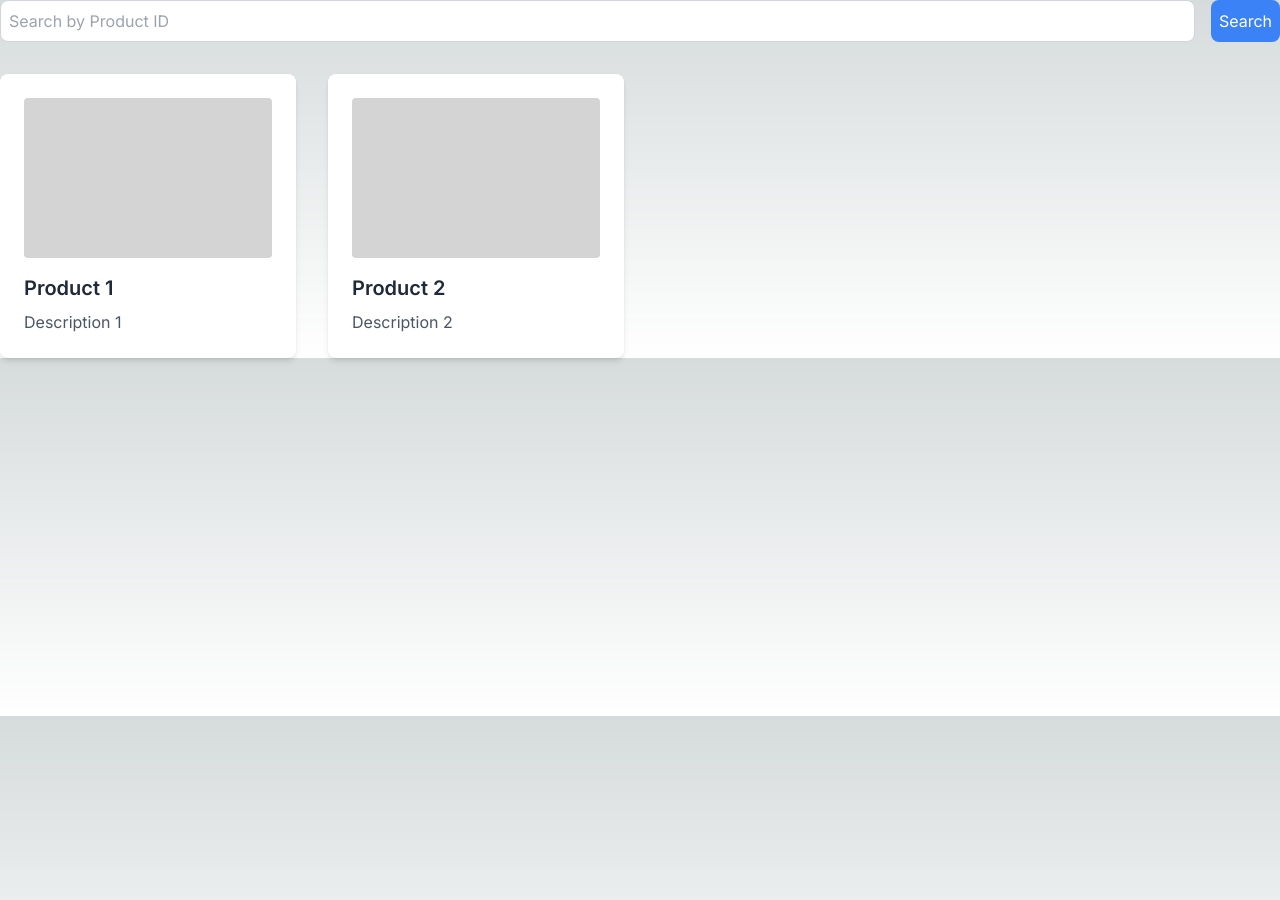
Test: SearchComponent › displays error message when request response is not ok
In the field with placeholder "Search by Product ID": {"x": 597, "y": 21} left=0, top=0, right=1195, bottom=42, type "2"
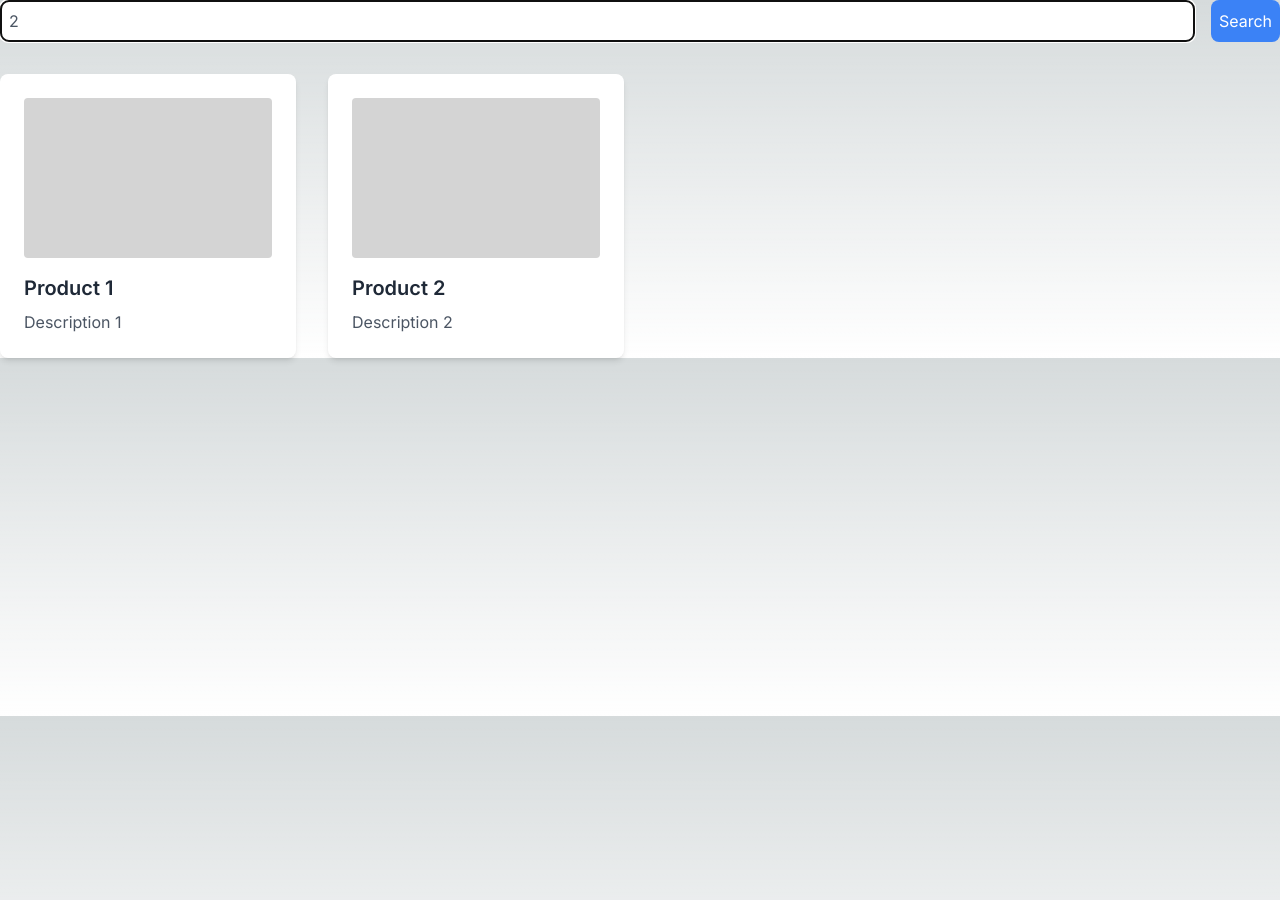
Click the button "Search": {"x": 1245, "y": 21} left=1211, top=0, right=1279, bottom=42
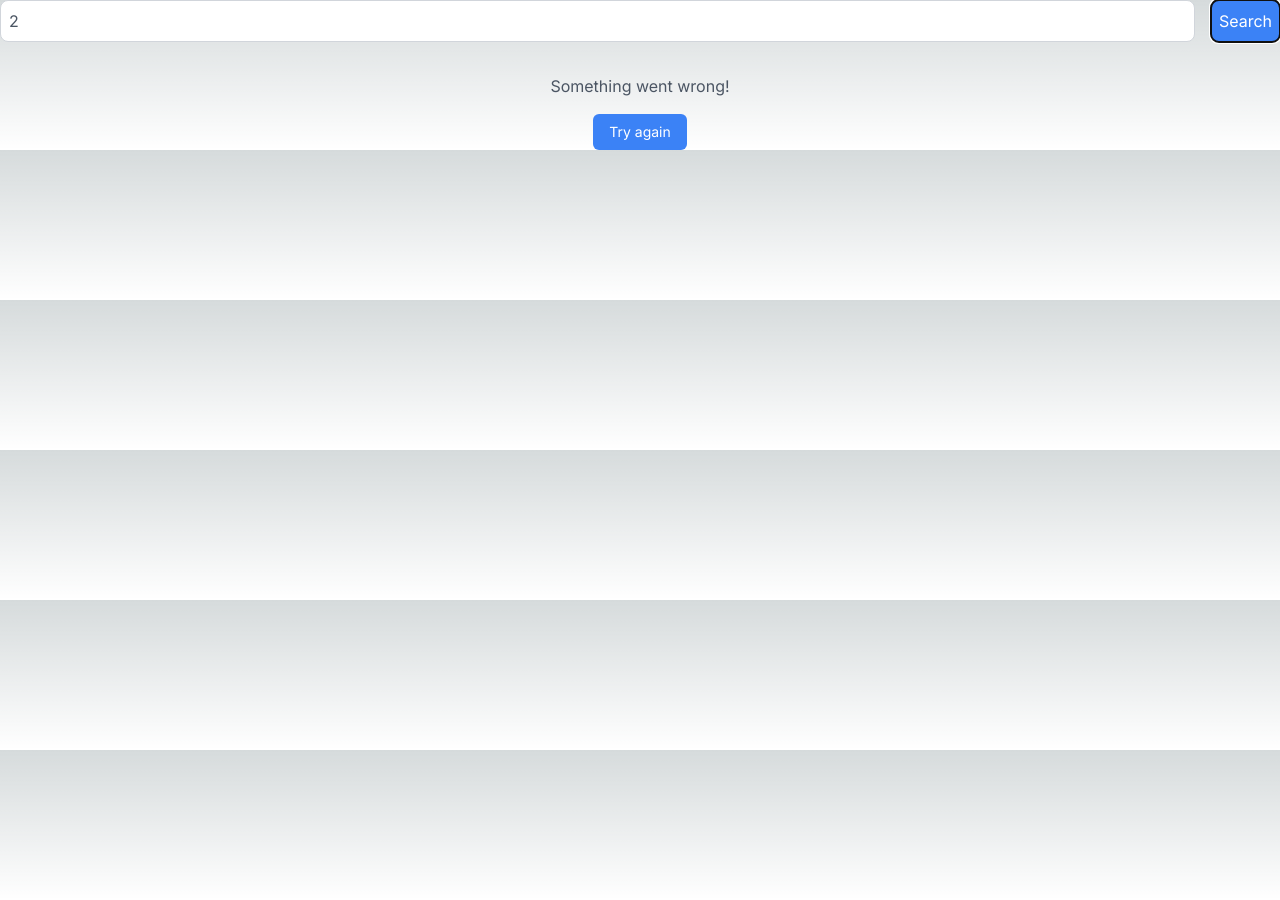
Expected: the heading reads "Something went wrong!", left=550, top=76, right=730, bottom=96
